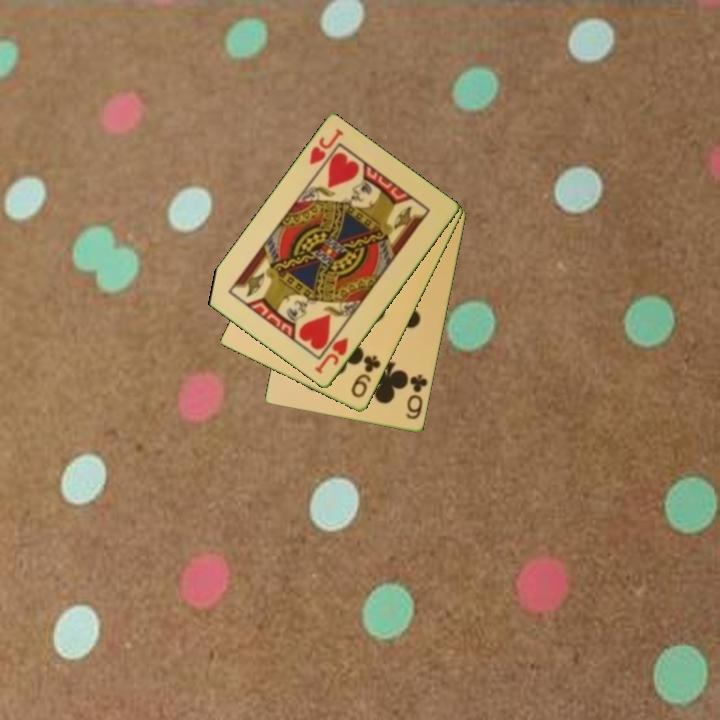6c: (402, 371, 431, 423)
9c: (348, 352, 384, 401)
Jh: (306, 125, 347, 168), (311, 334, 351, 377)
